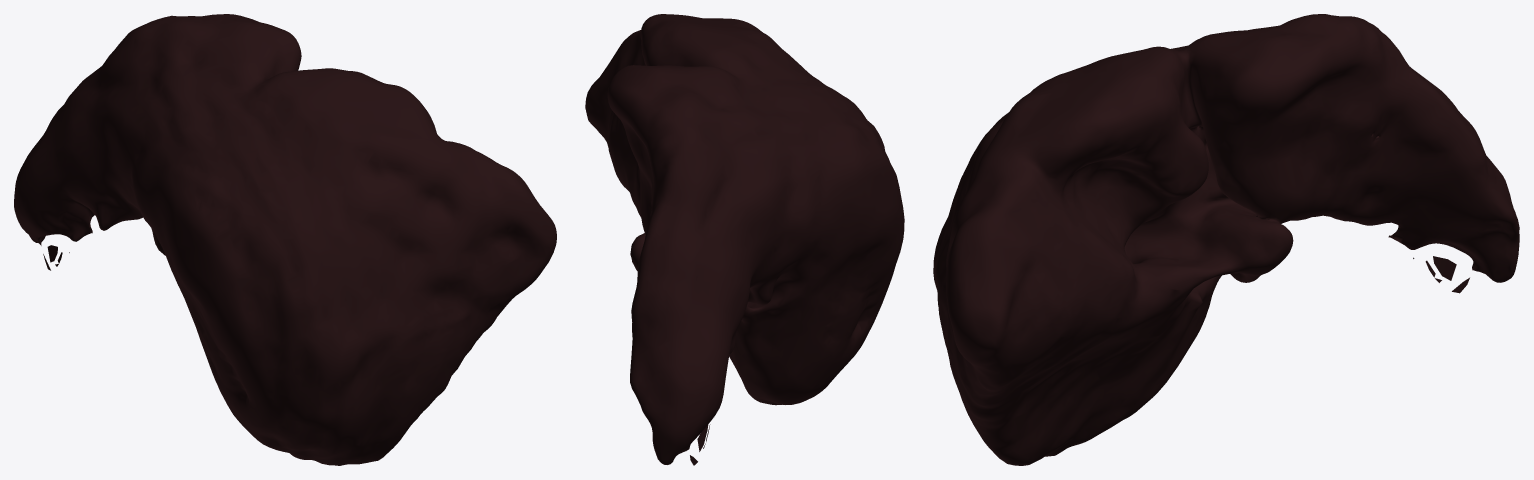
Rendered from Liver.obj.
3 renders of one model, left to right at view 1: azimuth 30°, elevation 25°; view 2: azimuth 150°, elevation 25°; view 3: azimuth 270°, elevation 25°, orthographic. The views are drawn at different scales.
Visible parts, largest first — view 1: Liver; view 2: Liver; view 3: Liver.
Part boxes in pixels (x1=…): Liver: x1=14, y1=14, x2=556, y2=465; Liver: x1=585, y1=14, x2=904, y2=465; Liver: x1=933, y1=14, x2=1519, y2=465.
Size of the model in its own units: 6.91 by 7.43 by 9.33.
